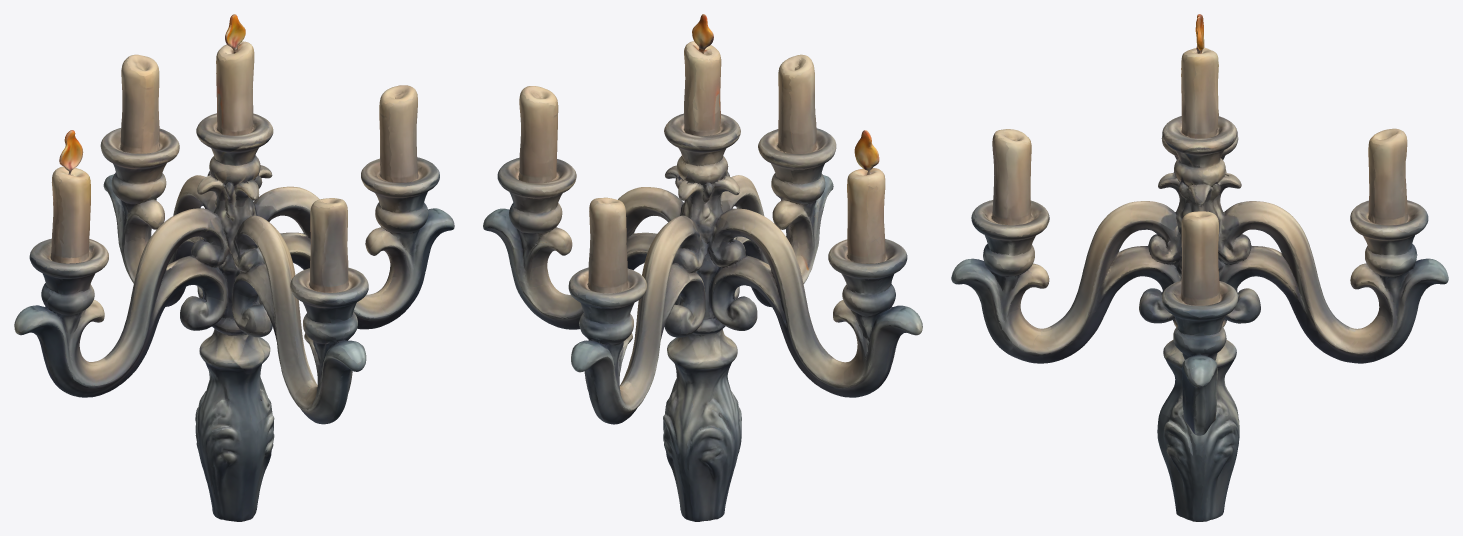
The model's file is candelabra.glb.
3 renders of one model, left to right at view 1: azimuth 30°, elevation 25°; view 2: azimuth 150°, elevation 25°; view 3: azimuth 270°, elevation 25°, orthographic.
Parts seen in each view (by area): view 1: geometry_0; view 2: geometry_0; view 3: geometry_0.
Part boxes in pixels (x1=…): geometry_0: x1=14, y1=14, x2=454, y2=521; geometry_0: x1=483, y1=14, x2=922, y2=521; geometry_0: x1=951, y1=14, x2=1448, y2=521.
Size of the model in its own units: 0.6875 by 0.75 by 0.682.
Materials: 1 (1 with a texture image).
